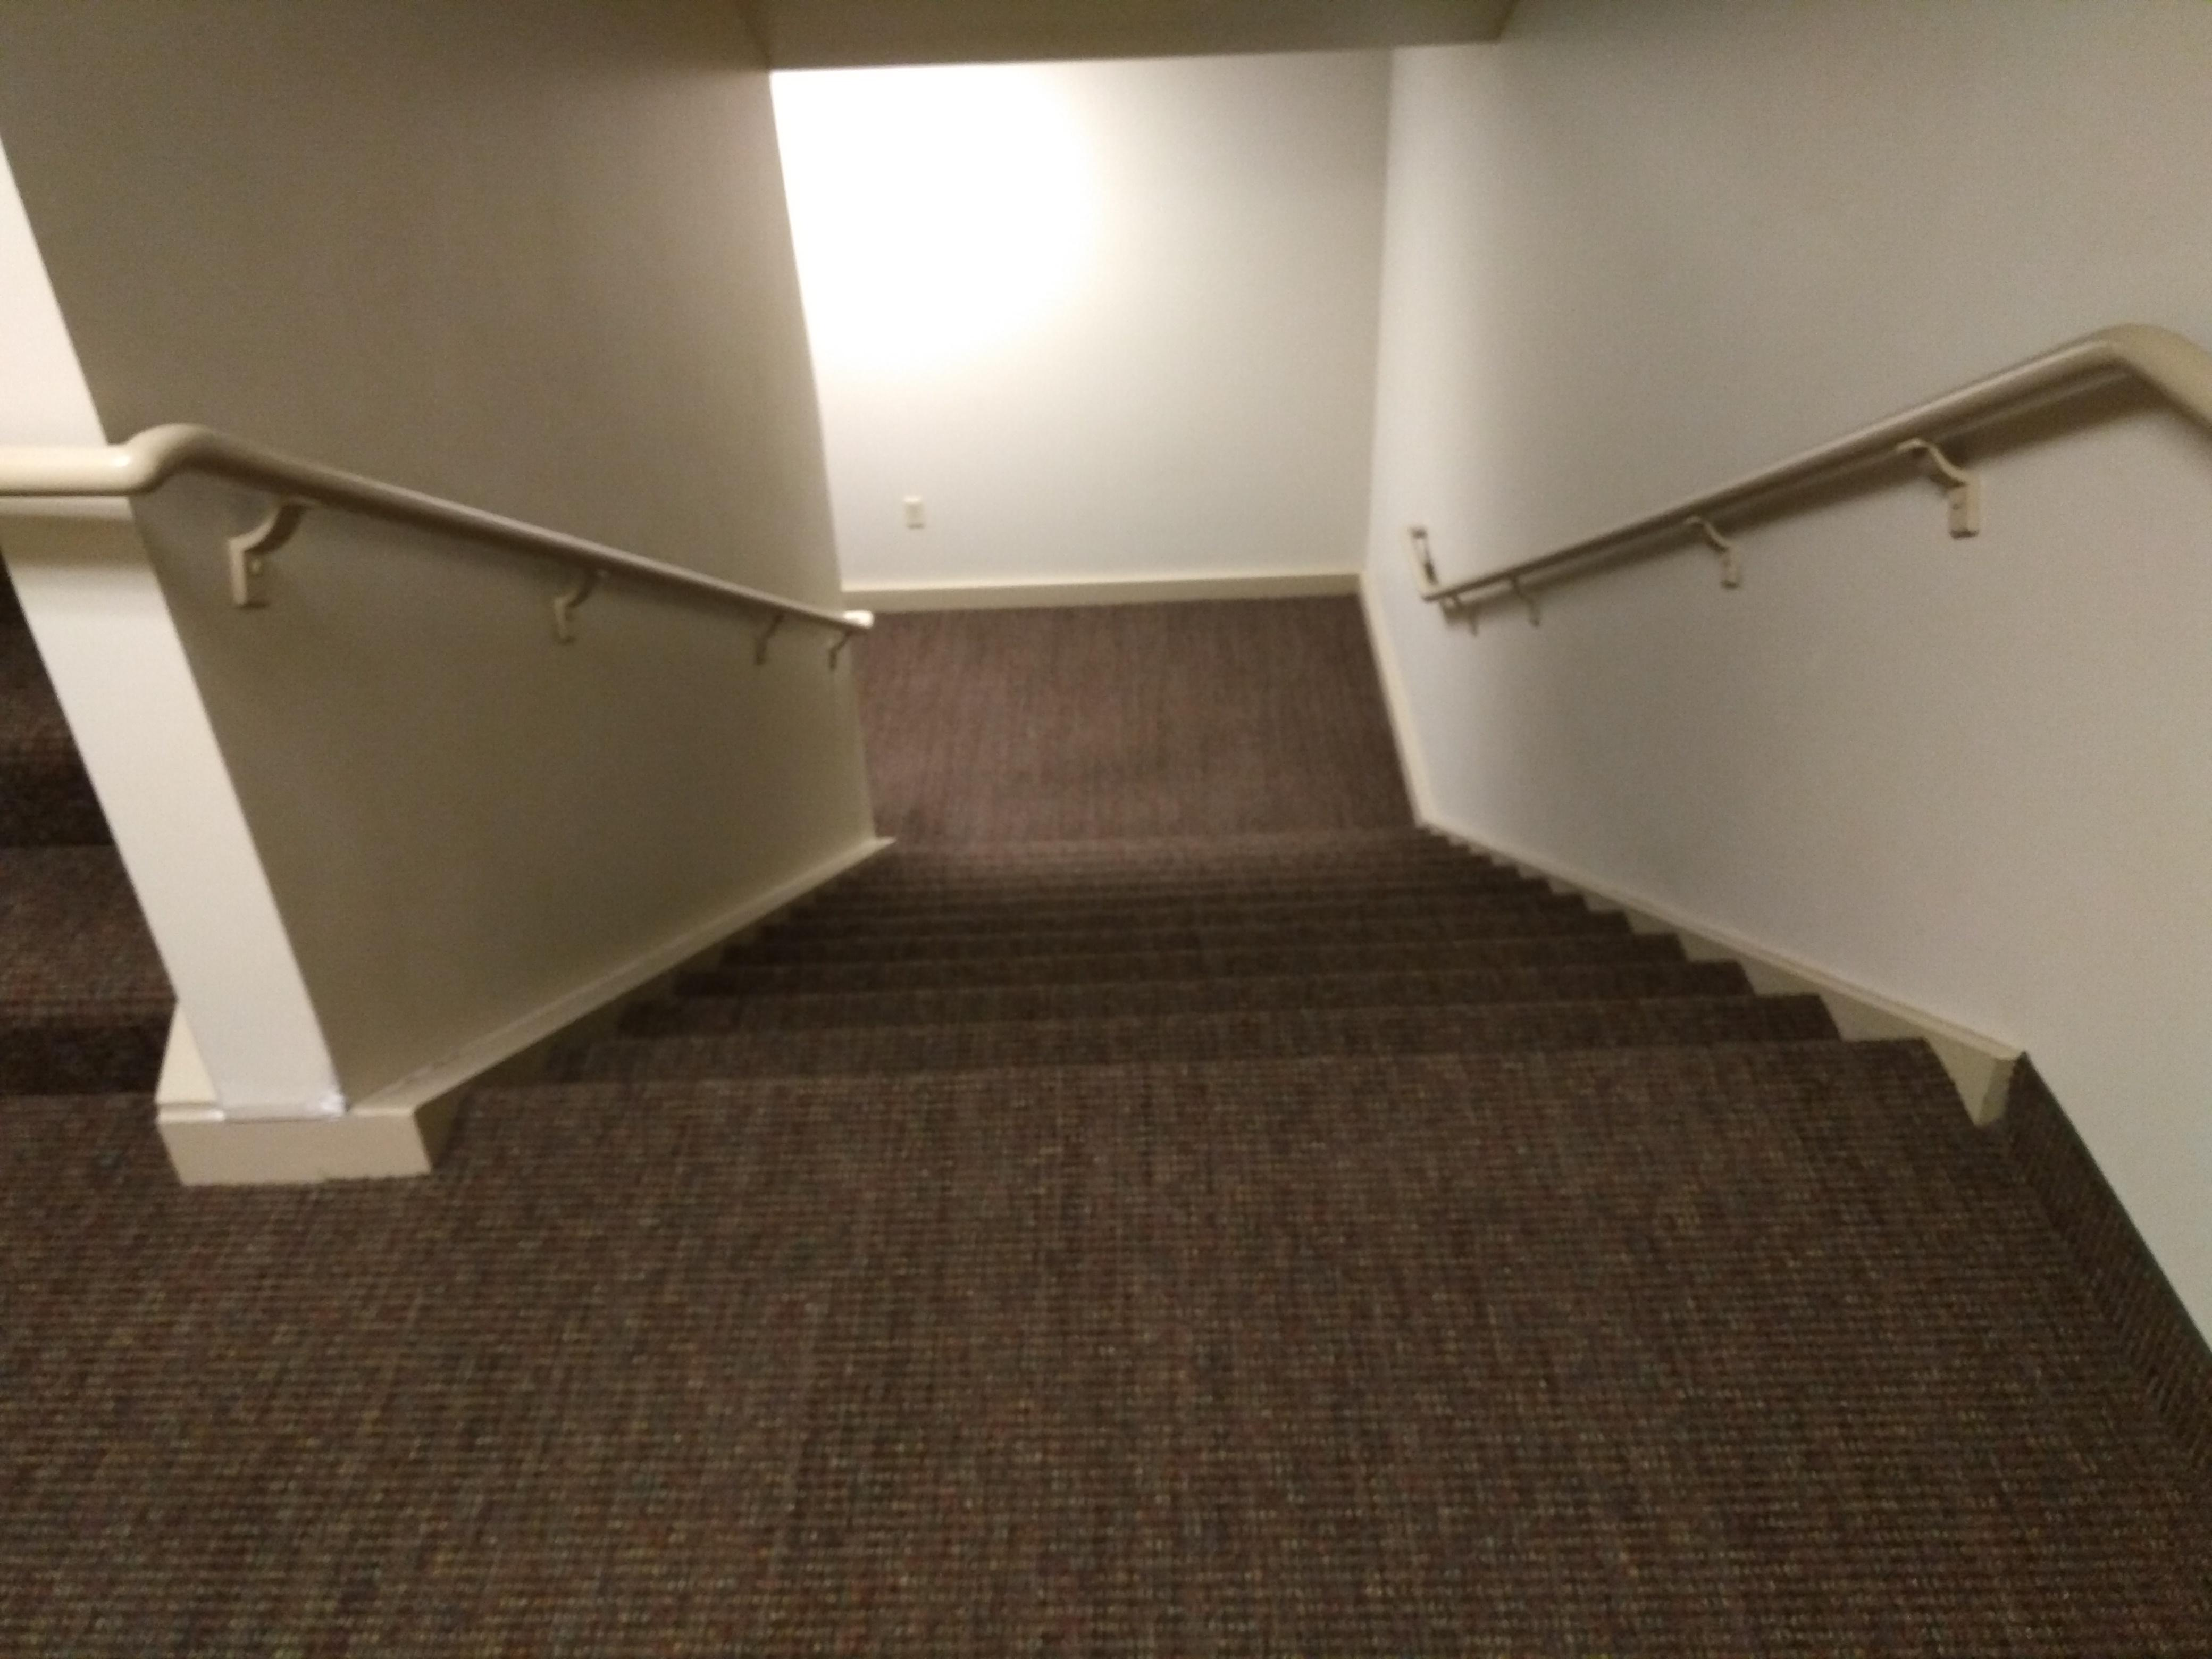stairs_down: (439, 812, 1942, 1211)
